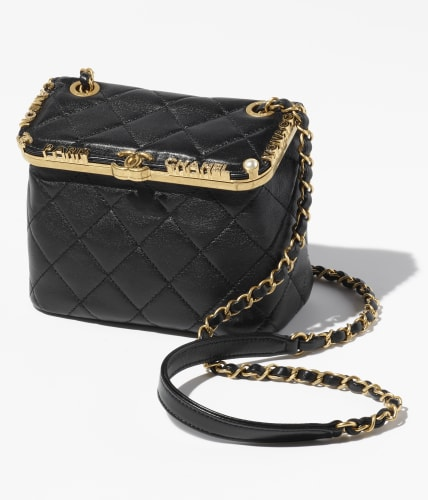channel: (18, 64, 354, 354), (55, 197, 214, 295), (281, 184, 322, 286), (145, 145, 248, 181)
